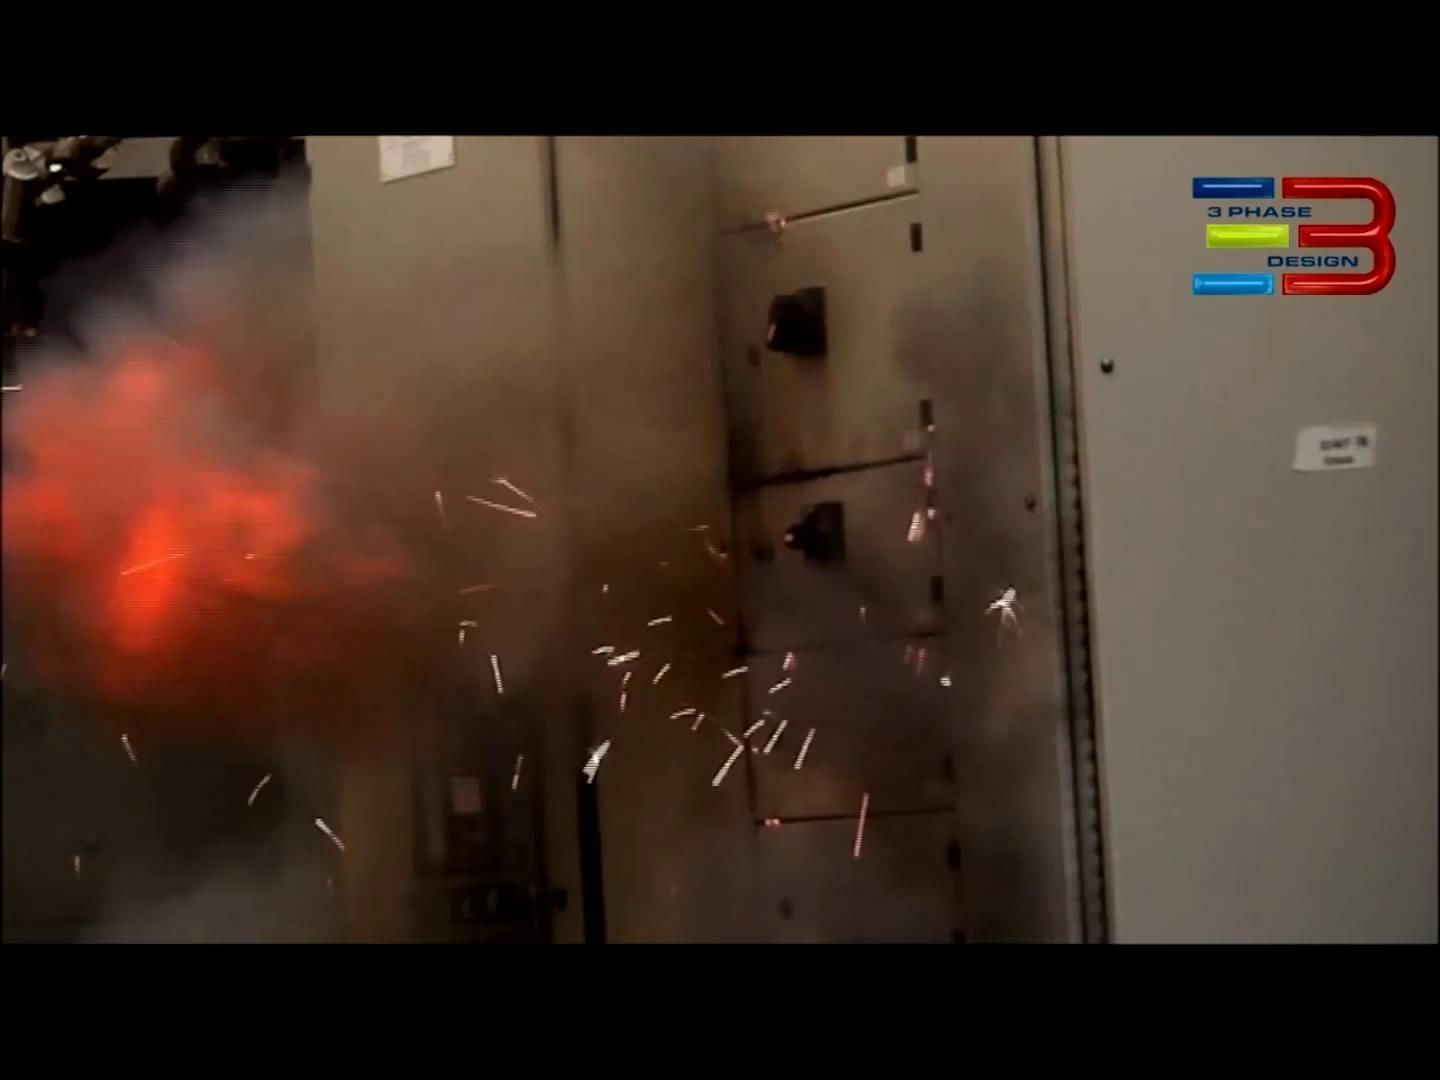fire: (3, 141, 732, 867)
